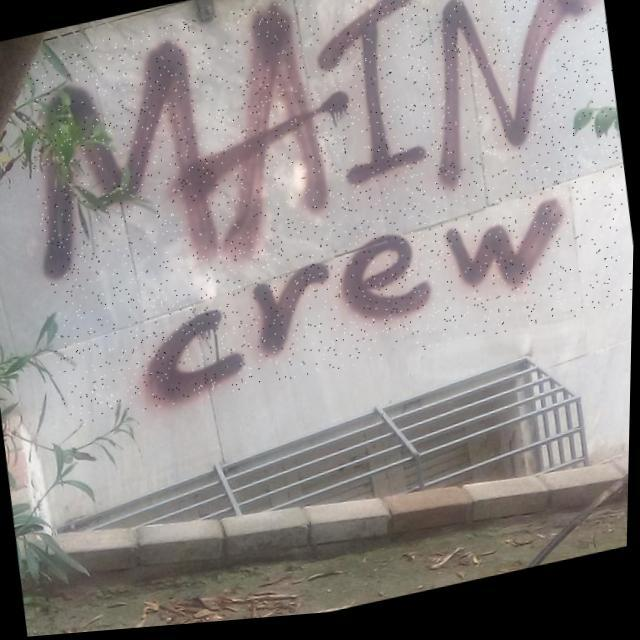-: (14, 0, 640, 434), (493, 0, 603, 20)
